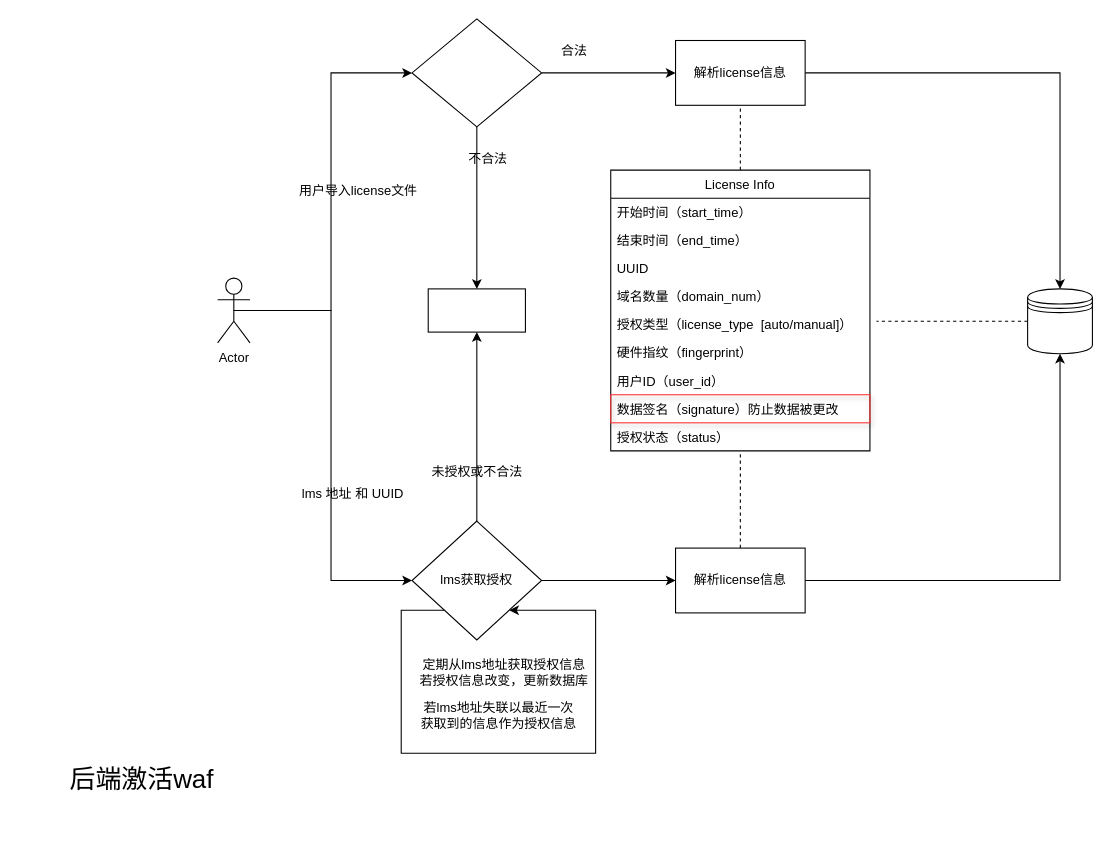
Image size: 1111x845. Some labels were removed from this diagram. The centre of each missing label's shape, as x and y in pixels:
"DB" goes at (1059,321).
"合法性" goes at (476,72).
"结束" goes at (476,310).
